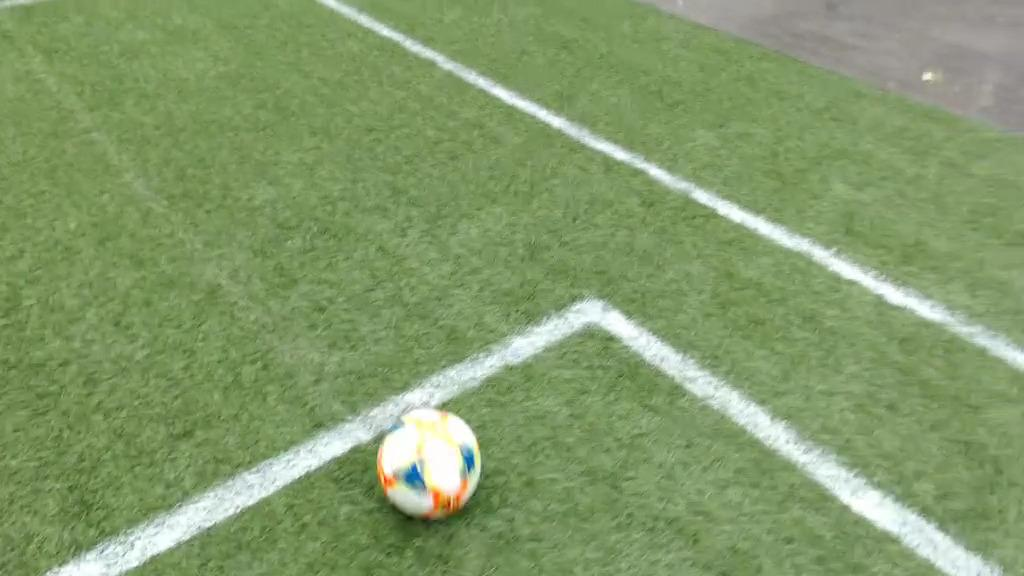ball: (362, 387, 503, 545)
